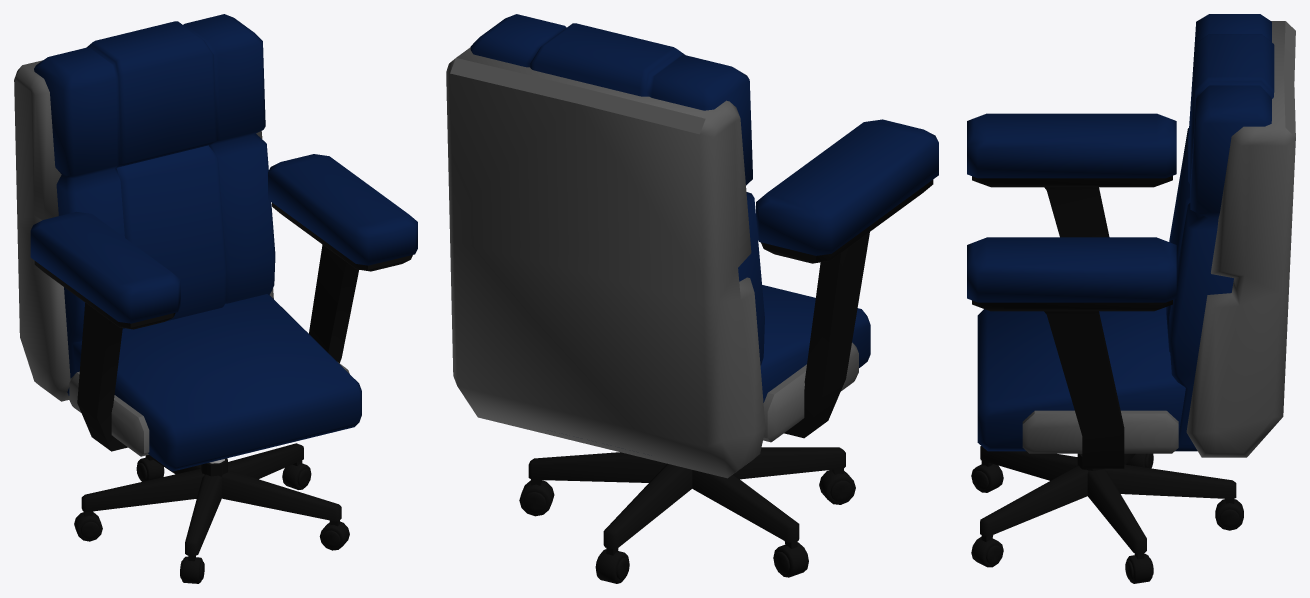
The model's file is ML_chair.fbx.
The picture shows the model from 3 angles, left to right: view 1: azimuth 30°, elevation 25°; view 2: azimuth 150°, elevation 25°; view 3: azimuth 270°, elevation 25°; orthographic projection. The views are drawn at different scales.
Visible parts, largest first — view 1: ML_Chair; view 2: ML_Chair; view 3: ML_Chair.
Part boxes in pixels (x1,y1,x2,y2): ML_Chair: (14,14,417,583); ML_Chair: (446,14,938,583); ML_Chair: (967,14,1295,583).
Size of the model in its own units: 91.7 by 129 by 81.45.
